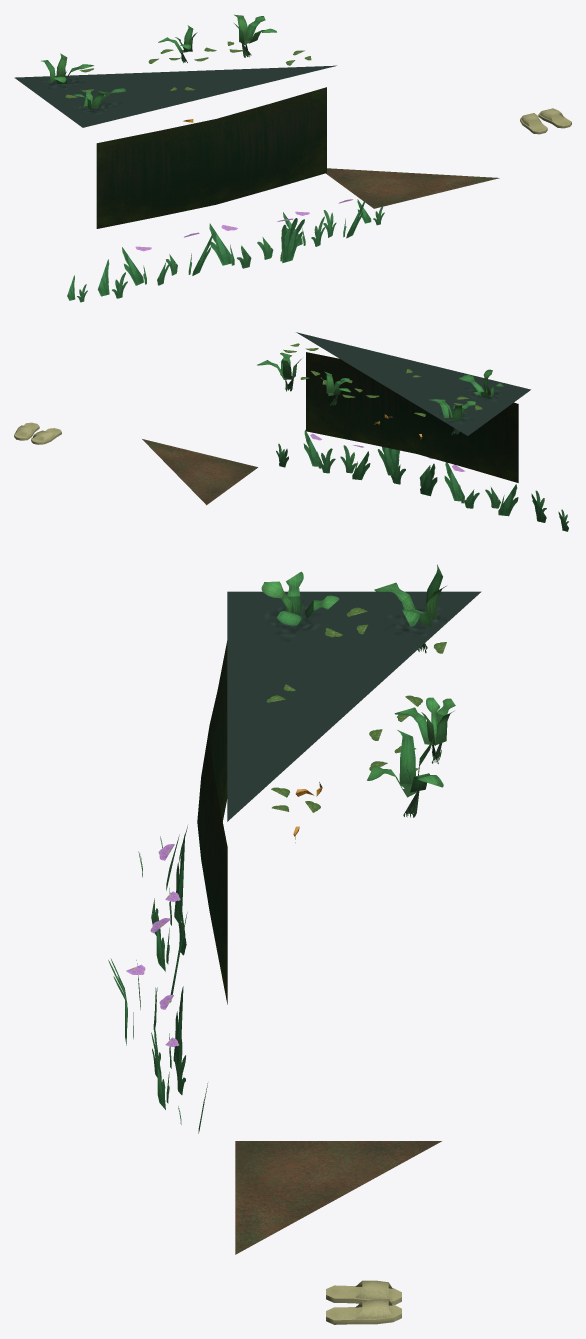
Rendered from la bon cay.fbx.
3 renders of one model, top to bottom at view 1: azimuth 30°, elevation 25°; view 2: azimuth 150°, elevation 25°; view 3: azimuth 270°, elevation 25°, orthographic. The views are drawn at different scales.
Visible parts, largest first — view 1: la bon cay; view 2: la bon cay; view 3: la bon cay.
Boxes of the visible parts, x1=… form: la bon cay: x1=14, y1=14, x2=571, y2=302; la bon cay: x1=14, y1=332, x2=568, y2=531; la bon cay: x1=108, y1=564, x2=481, y2=1324.
Size of the model in its own units: 547 by 171 by 176.
Materials: 1 (1 with a texture image).
